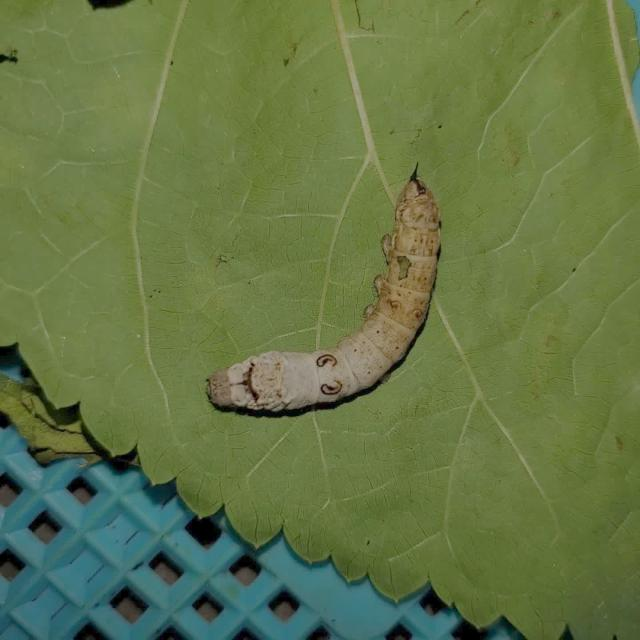Grasserie: (202, 166, 453, 428)
